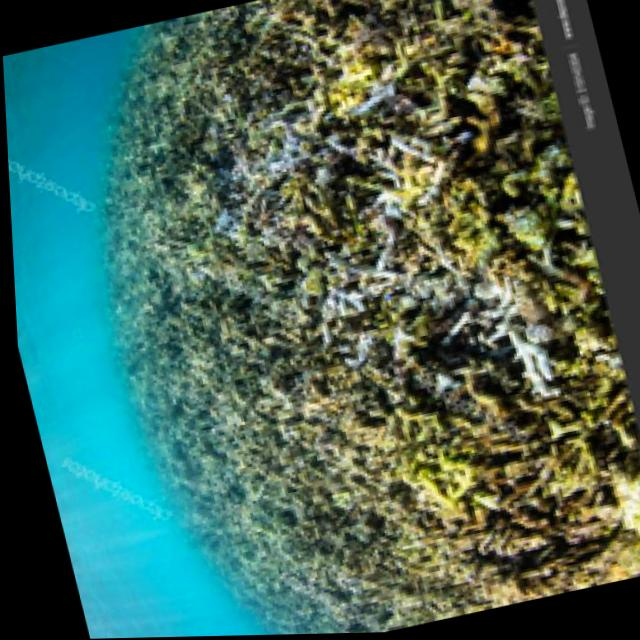Dead Coral: (233, 116, 591, 482)
